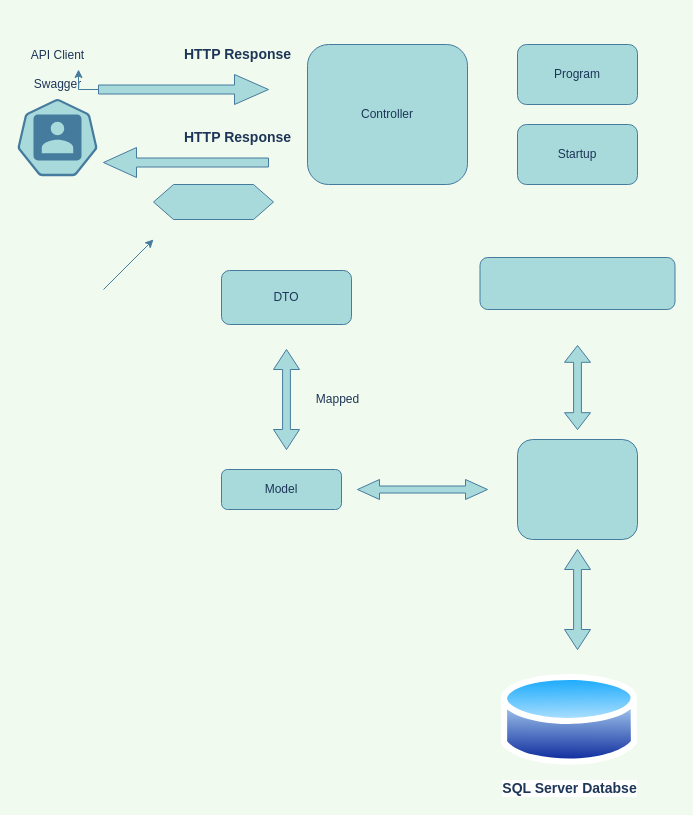
Image size: 693x815. Some labels were removed from this diagram. Here are the shapes that lost their labels. From the top down, the centre of each, then its label:
At [213,202]: "JSON".
At [577,283]: "Repository".
At [577,489]: "Data Access (DB Context)".
